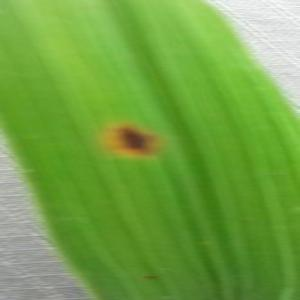Brown_Spot: (103, 114, 166, 165), (138, 269, 165, 288)
